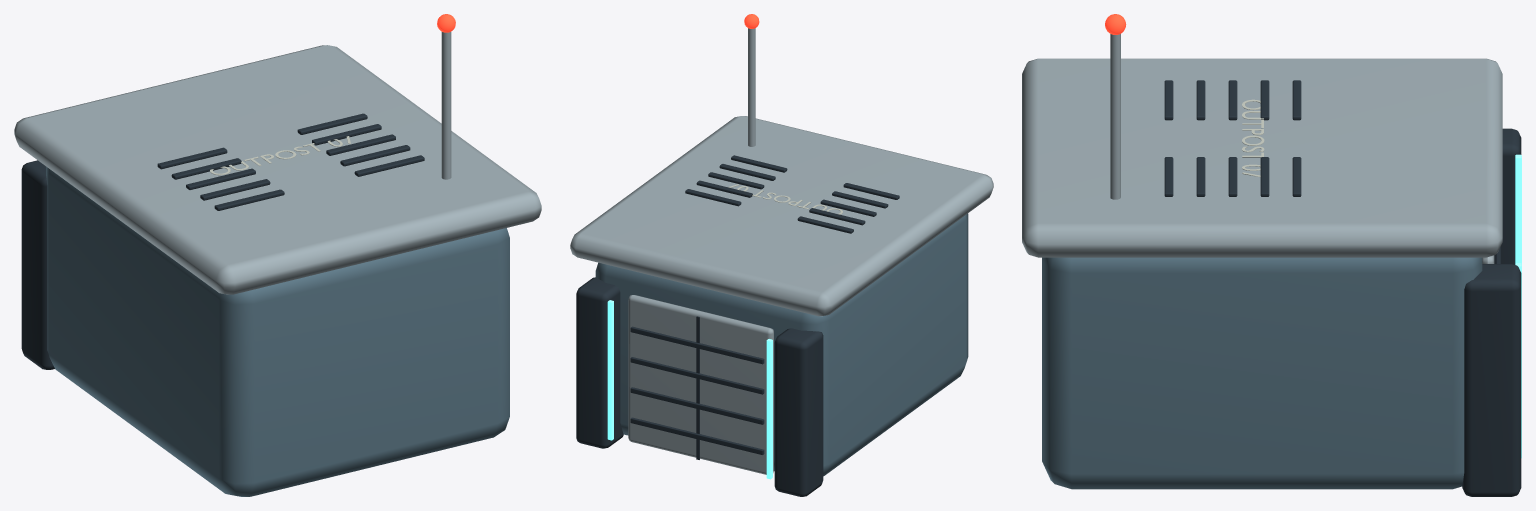
File: 18_bunker_command.glb
3 views of the same model, side by side, from view 1: azimuth 30°, elevation 25°; view 2: azimuth 150°, elevation 25°; view 3: azimuth 270°, elevation 25° (orthographic). The views are drawn at different scales.
Parts seen in each view (by area): view 1: Bunker hull, Roof armor, Gate buttress, Text; view 2: Roof armor, Bunker hull, Gate buttress, Door light; view 3: Bunker hull, Roof armor, Gate buttress, Door light, Text.
Boxes of the visible parts, <box> form: Bunker hull: <box>46,166,509,496</box>; Roof armor: <box>14,32,541,294</box>; Gate buttress: <box>21,113,424,369</box>; Text: <box>210,136,350,175</box>; Roof armor: <box>570,28,993,474</box>; Bunker hull: <box>595,213,968,476</box>; Gate buttress: <box>576,155,899,496</box>; Door light: <box>607,300,772,479</box>; Bunker hull: <box>1042,257,1482,489</box>; Roof armor: <box>1022,34,1502,263</box>; Gate buttress: <box>1164,80,1521,496</box>; Door light: <box>1515,154,1521,458</box>; Text: <box>1242,99,1264,177</box>.
Bounding box in the file's own units: 3.15 × 3.83 × 3.74.
